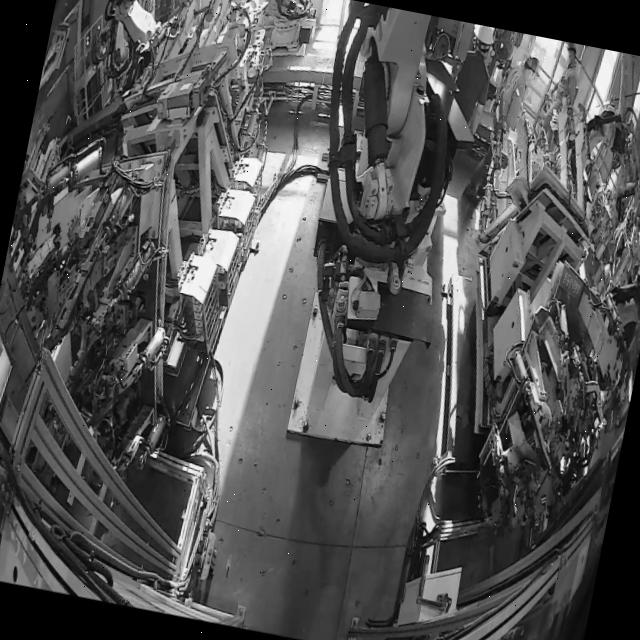Person: (464, 41, 560, 212)
